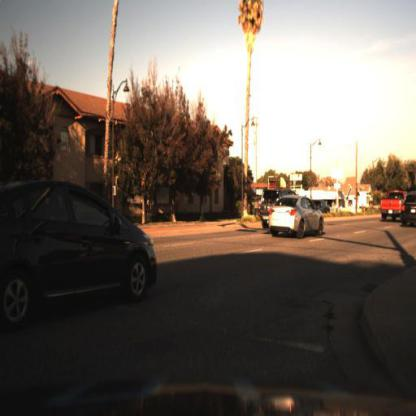car: (2, 179, 161, 328), (269, 193, 326, 240), (259, 186, 295, 225), (378, 188, 409, 223)
